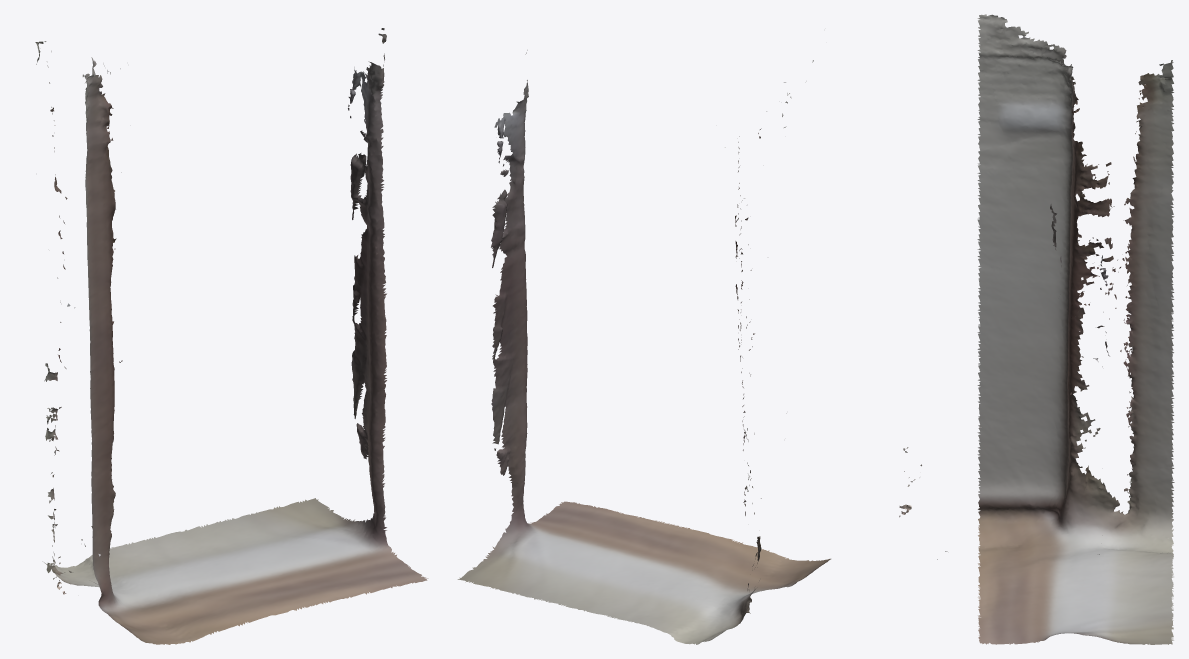
File: apartment-full-75-b106bc49335a.glb
The picture shows the model from 3 angles, left to right: view 1: azimuth 30°, elevation 25°; view 2: azimuth 150°, elevation 25°; view 3: azimuth 270°, elevation 25°; orthographic projection. The views are drawn at different scales.
Bounding box in the file's own units: 1.29 × 1.81 × 0.623.
